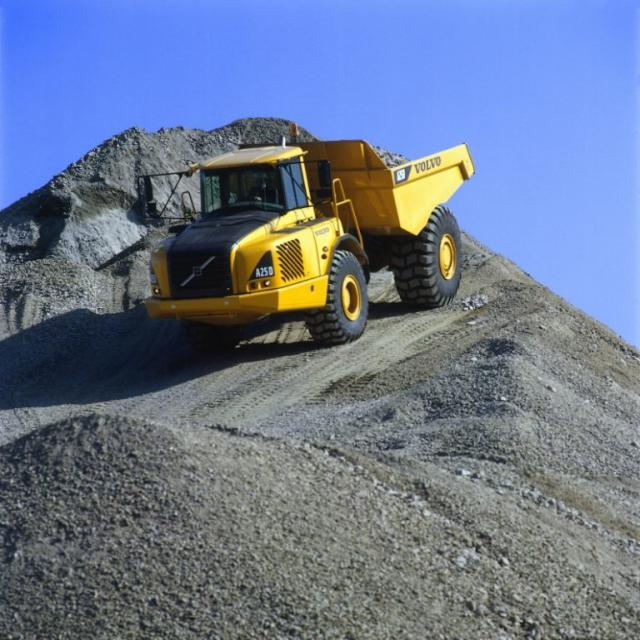dump_truck: (130, 131, 498, 348)
